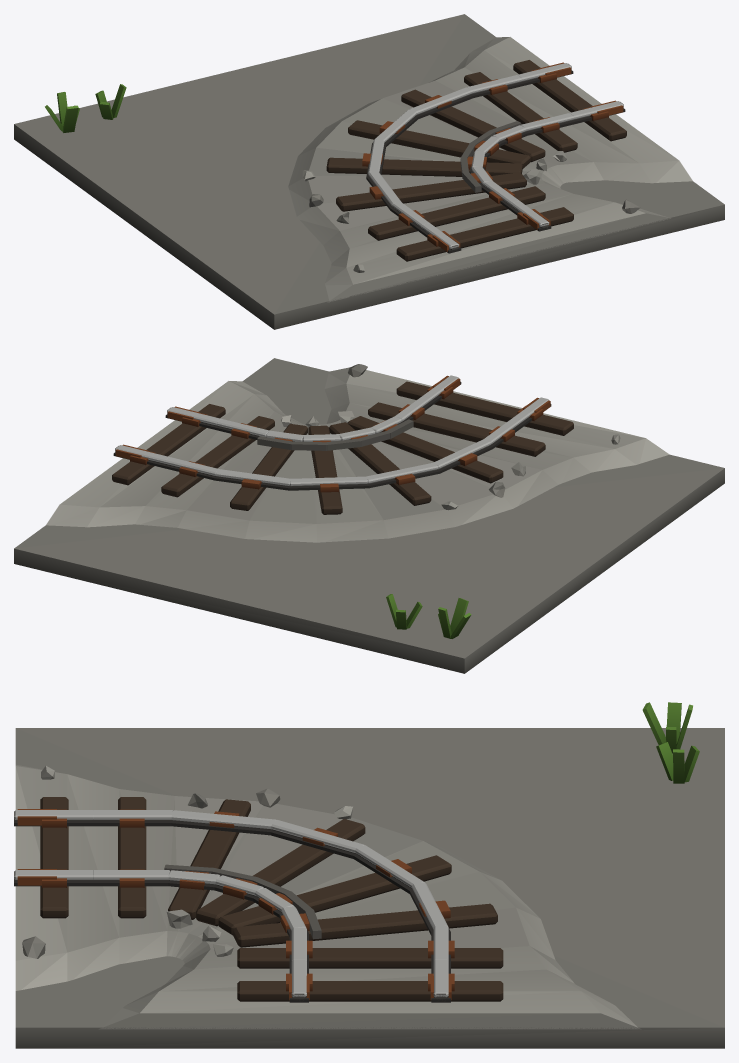
Rendered from track-curve-tight-tile.glb.
3 renders of one model, top to bottom at view 1: azimuth 30°, elevation 25°; view 2: azimuth 150°, elevation 25°; view 3: azimuth 270°, elevation 25°, orthographic. The views are drawn at different scales.
Parts seen in each view (by area): view 1: track_curve_tight_tile; view 2: track_curve_tight_tile; view 3: track_curve_tight_tile.
Boxes of the visible parts, x1,y1,x2,y2 form: track_curve_tight_tile: [14, 14, 724, 329]; track_curve_tight_tile: [14, 358, 724, 673]; track_curve_tight_tile: [14, 702, 724, 1048].
Size of the model in its own units: 4.01 by 0.4045 by 4.01.
